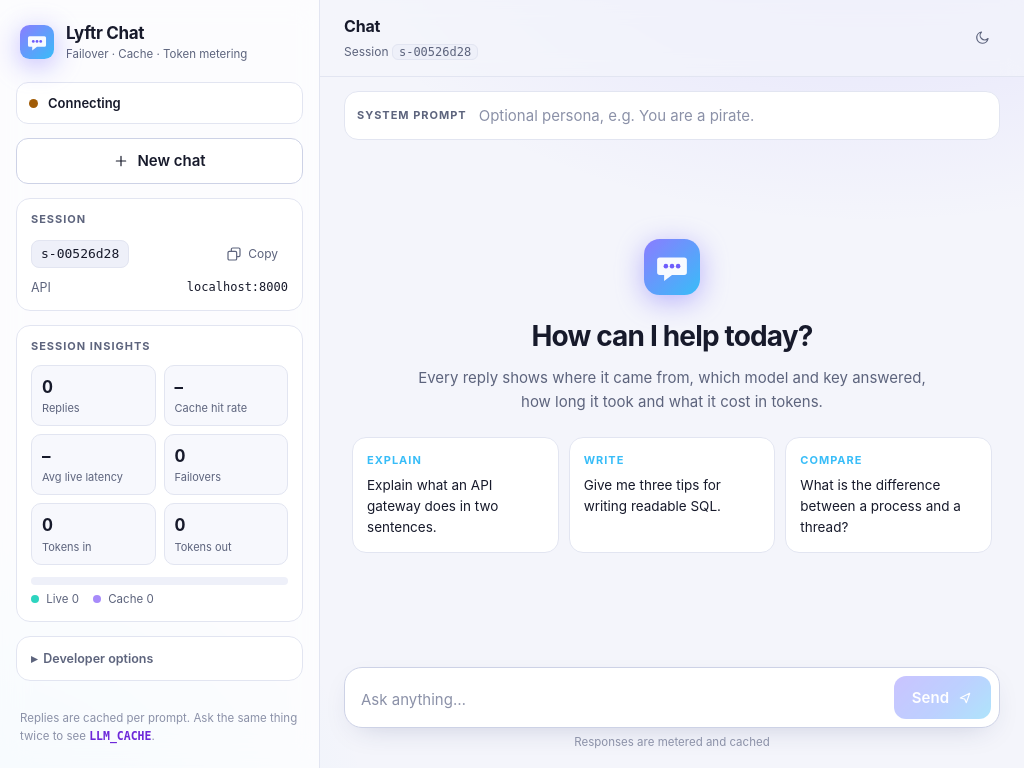
Test: chat contract › shows reply and all metadata with the required test ids, and clears the input
Type "What is the capital of France?" into the text box with test id "chat-input".
click(622, 700); type("What is the capital of France?")  # box top-left (361, 680), bottom-right (884, 719)
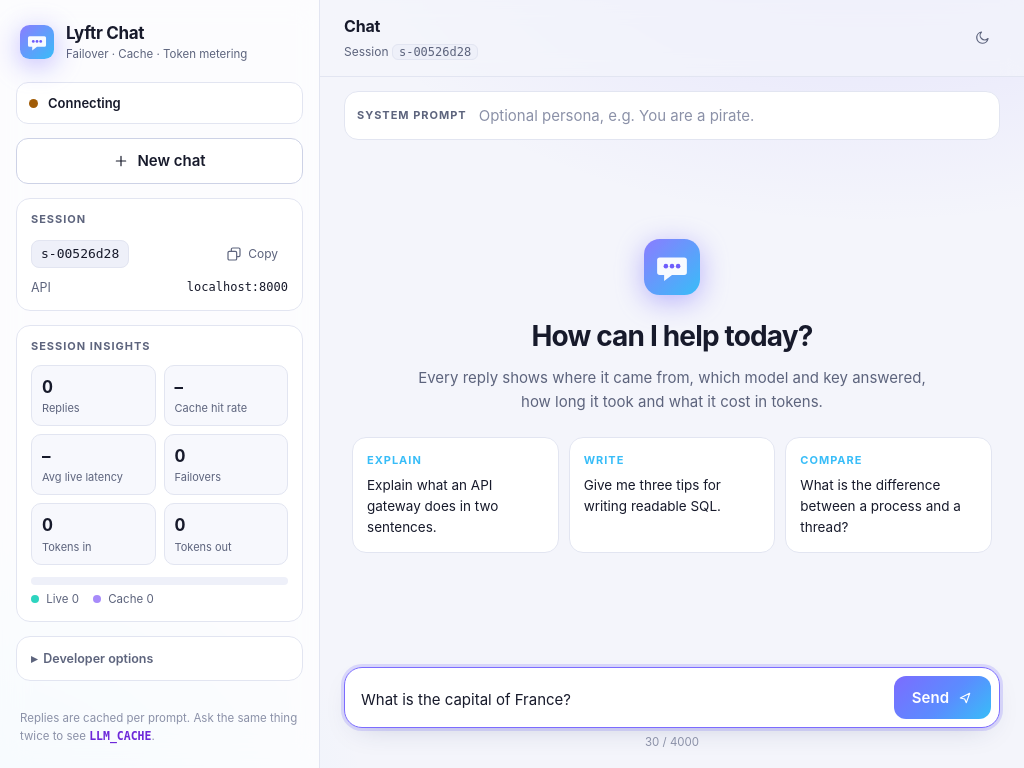
Click the button with test id "send-button".
click(942, 698)  # box top-left (894, 676), bottom-right (991, 719)
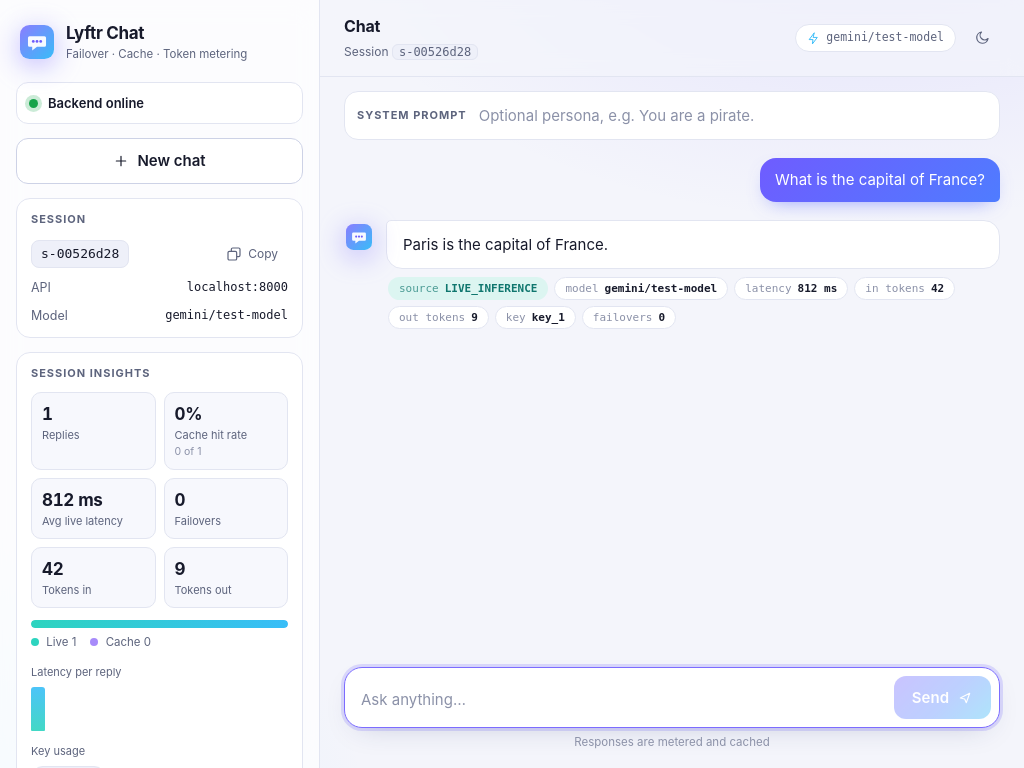
Expected: the element with test id "assistant-message" reads "Paris is the capital of France.", top-left (403, 234), bottom-right (608, 254)
Expected: the text with test id "meta-source" reads "LIVE_INFERENCE", top-left (445, 282), bottom-right (538, 295)
Expected: the text with test id "meta-model" reads "gemini/test-model", top-left (605, 282), bottom-right (717, 295)
